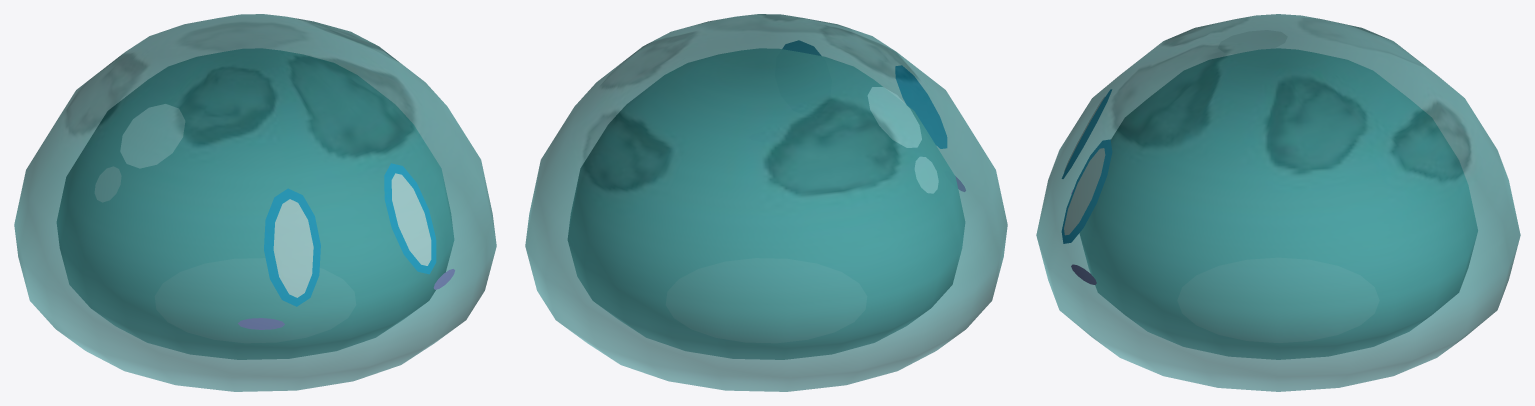
File: slime.glb
3 views of the same model, side by side, from view 1: azimuth 30°, elevation 25°; view 2: azimuth 150°, elevation 25°; view 3: azimuth 270°, elevation 25° (orthographic).
Visible parts, largest first — view 1: slime001_slime_0; view 2: slime001_slime_0; view 3: slime001_slime_0.
Part boxes in pixels (x1,y1,x2,y2): slime001_slime_0: (14,14,496,391); slime001_slime_0: (525,14,1007,391); slime001_slime_0: (1036,14,1520,391).
Bounding box in the file's own units: 0.00727 × 0.00482 × 0.00727.
1 material, 1 textured.
